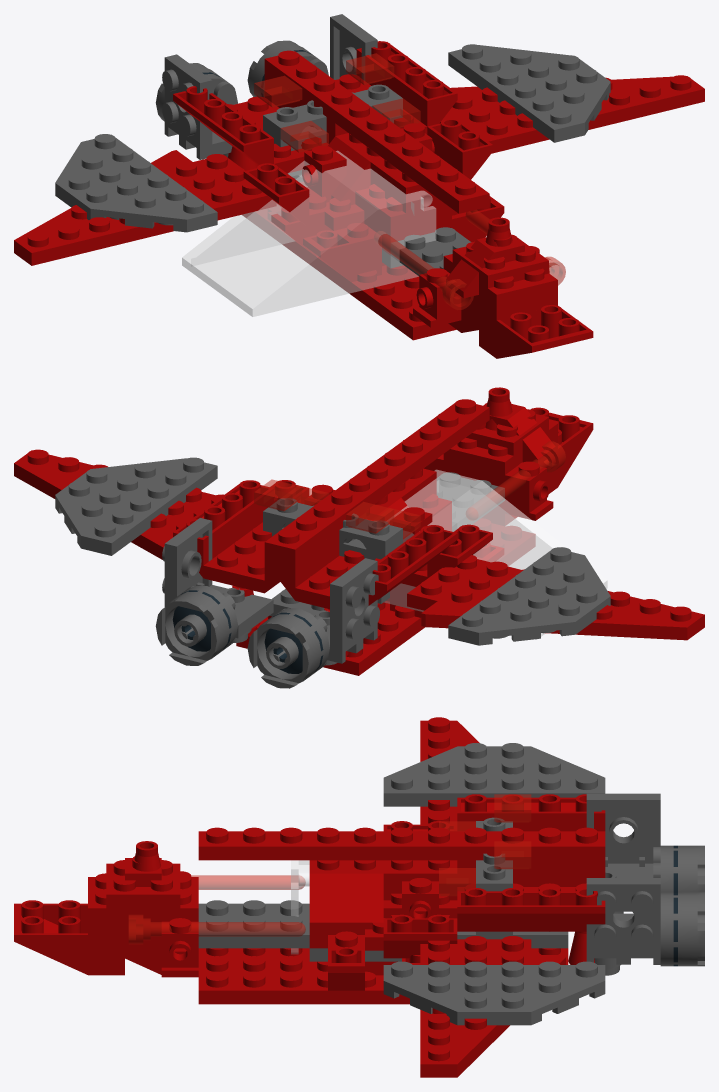
File: 003-generated_fighter_jet_v2.glb
3 views of the same model, one above another, from view 1: azimuth 30°, elevation 25°; view 2: azimuth 150°, elevation 25°; view 3: azimuth 270°, elevation 25° (orthographic). The views are drawn at different scales.
Visible parts, largest first — view 1: 4474.dat, 2419.dat (×2), 4854.dat (×2), 3666.dat (×2), 3934.dat, 3933.dat, 3039.dat (×3), 3956.dat (×2), 3665a.dat (×3), 3030.dat, 4871.dat (×2), 3747a.dat (×2) (+11 smaller); view 2: 2419.dat (×2), 4854.dat (×2), 3666.dat (×2), 3941.dat (×2), 3934.dat, 3956.dat (×2), 4474.dat, 3933.dat, 3030.dat, 3039.dat (×3), 3701.dat (×2), 3070b.dat (×4) (+11 smaller); view 3: 2419.dat (×2), 4854.dat (×2), 3666.dat (×2), 3956.dat (×2), 3039.dat (×4), 3030.dat, 3933.dat, 3747a.dat (×2), 3832.dat, 3941.dat (×2), 3957a.dat (×2), 4070.dat (×2) (+10 smaller).
Boxes of the visible parts, <box> form: 4474.dat: <box>182,150,436,316</box>; 2419.dat (×2): <box>55,44,610,232</box>; 4854.dat (×2): <box>173,41,457,173</box>; 3666.dat (×2): <box>264,50,489,213</box>; 3934.dat: <box>14,150,276,265</box>; 3933.dat: <box>439,75,704,153</box>; 3039.dat (×3): <box>328,133,557,320</box>; 3956.dat (×2): <box>162,14,377,159</box>; 3665a.dat (×3): <box>268,196,504,282</box>; 3030.dat: <box>242,205,456,340</box>; 4871.dat (×2): <box>243,118,492,227</box>; 3747a.dat (×2): <box>448,297,593,358</box>; 2419.dat (×2): <box>55,457,610,645</box>; 4854.dat (×2): <box>173,480,457,609</box>; 3666.dat (×2): <box>264,399,489,562</box>; 3941.dat (×2): <box>155,585,329,688</box>; 3934.dat: <box>407,555,704,640</box>; 3956.dat (×2): <box>162,518,379,663</box>; 4474.dat: <box>384,469,607,639</box>; 3933.dat: <box>14,449,223,559</box>; 3030.dat: <box>236,518,535,675</box>; 3039.dat (×3): <box>366,438,513,520</box>; 3701.dat (×2): <box>263,498,402,560</box>; 3070b.dat (×4): <box>254,479,420,539</box>; 2419.dat (×2): <box>383,743,605,1025</box>; 4854.dat (×2): <box>457,794,605,931</box>; 3666.dat (×2): <box>198,827,605,860</box>; 3956.dat (×2): <box>586,793,660,964</box>; 3039.dat (×4): <box>88,860,457,934</box>; 3030.dat: <box>198,948,568,1004</box>; 3933.dat: <box>420,936,565,1077</box>; 3747a.dat (×2): <box>14,900,183,975</box>; 3832.dat: <box>198,900,568,948</box>; 3941.dat (×2): <box>653,845,704,966</box>; 3957a.dat (×2): <box>128,875,305,944</box>; 4070.dat (×2): <box>161,878,438,977</box>.
Size of the model in its own units: 0.176 by 0.0352 by 0.1496.
